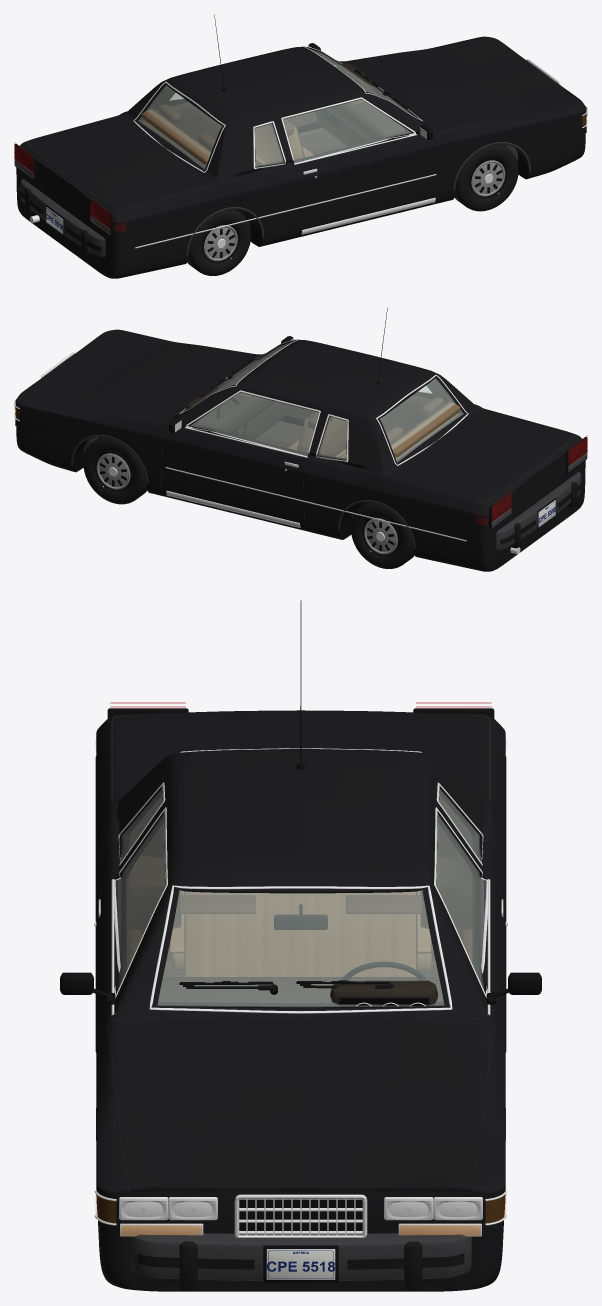
File: coupe84.glb
The picture shows the model from 3 angles, top to bottom: view 1: azimuth 30°, elevation 25°; view 2: azimuth 150°, elevation 25°; view 3: azimuth 270°, elevation 25°; orthographic projection. The views are drawn at different scales.
Visible parts, largest first — view 1: Body, Hood, Door_FR, Trunk, Interior, Glass, Glass_FR, Wheel_FR_mesh, Wheel_RR_mesh, Trim_FR, Bumper_R, Trim (+3 smaller); view 2: Body, Hood, Door_FL, Trunk, Interior, Glass, Glass_FL, Wheel_FL_mesh, Wheel_RL_mesh, Trim_FL, Bumper_R, Trim (+3 smaller); view 3: Body, Hood, Glass, Interior, Trunk, Ends, Bumper_F, Glass_FL, Glass_FR, Door_FR, Door_FL, Lamps_Head (+5 smaller).
Boxes of the visible parts, bbox=[...] form: Body: bbox=[16, 36, 586, 278]; Hood: bbox=[343, 38, 581, 133]; Door_FR: bbox=[280, 96, 439, 237]; Trunk: bbox=[27, 114, 215, 209]; Interior: bbox=[141, 63, 409, 167]; Glass: bbox=[133, 46, 422, 172]; Glass_FR: bbox=[281, 97, 413, 164]; Wheel_FR_mesh: bbox=[454, 144, 518, 211]; Wheel_RR_mesh: bbox=[187, 209, 251, 275]; Trim_FR: bbox=[281, 97, 436, 234]; Bumper_R: bbox=[19, 179, 105, 257]; Trim: bbox=[135, 14, 530, 255]; Body: bbox=[15, 329, 585, 571]; Hood: bbox=[20, 331, 258, 426]; Door_FL: bbox=[162, 389, 321, 530]; Trunk: bbox=[386, 407, 574, 502]; Interior: bbox=[186, 363, 460, 460]; Glass: bbox=[179, 339, 468, 465]; Glass_FL: bbox=[189, 390, 320, 457]; Wheel_FL_mesh: bbox=[83, 437, 147, 504]; Wheel_RL_mesh: bbox=[350, 502, 414, 568]; Trim_FL: bbox=[165, 390, 320, 527]; Bumper_R: bbox=[496, 472, 582, 550]; Trim: bbox=[71, 307, 466, 548]; Body: bbox=[96, 710, 505, 1291]; Hood: bbox=[107, 1017, 494, 1191]; Glass: bbox=[121, 748, 480, 1013]; Interior: bbox=[158, 890, 443, 1006]; Trunk: bbox=[112, 711, 489, 801]; Ends: bbox=[94, 708, 507, 1282]; Bumper_F: bbox=[130, 1233, 471, 1290]; Glass_FL: bbox=[436, 814, 487, 987]; Glass_FR: bbox=[114, 814, 165, 987]; Door_FR: bbox=[96, 806, 169, 1039]; Door_FL: bbox=[433, 806, 505, 1039]; Lamps_Head: bbox=[121, 1202, 480, 1220].
Size of the model in its own units: 5.12 by 2.15 by 2.14.
34 materials, 5 textured.
